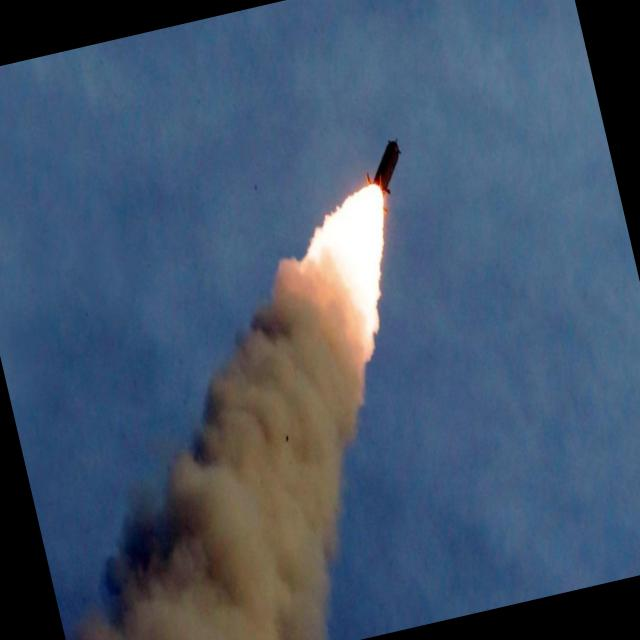rocket: (244, 128, 462, 432)
